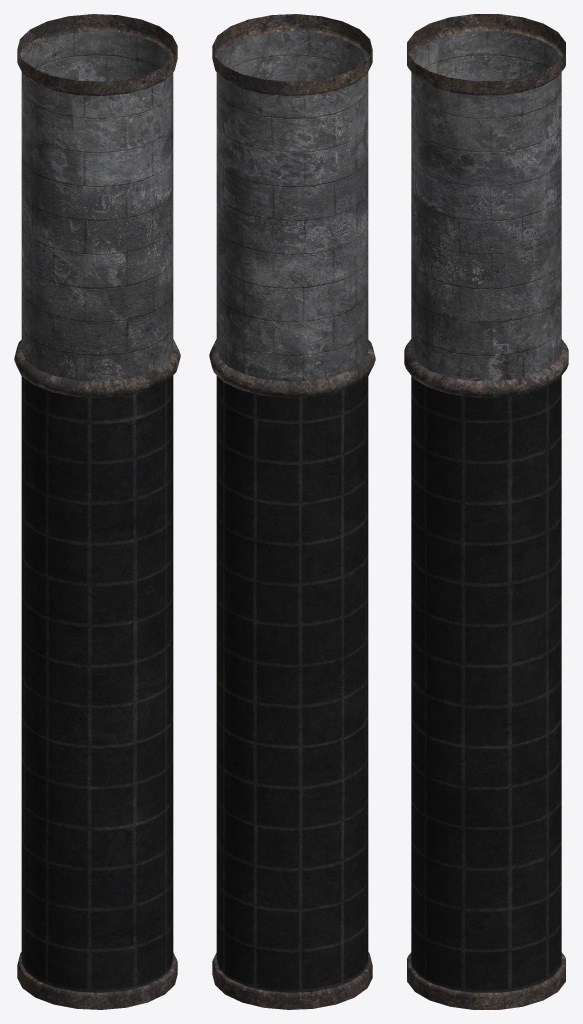
Rendered from BathroomColumn.FBX.
3 renders of one model, left to right at view 1: azimuth 30°, elevation 25°; view 2: azimuth 150°, elevation 25°; view 3: azimuth 270°, elevation 25°, orthographic.
Parts seen in each view (by area): view 1: BathroomColumn; view 2: BathroomColumn; view 3: BathroomColumn.
Boxes of the visible parts, x1,y1,x2,y2 form: BathroomColumn: [14, 14, 180, 1009]; BathroomColumn: [209, 14, 375, 1009]; BathroomColumn: [404, 14, 568, 1009].
Bounding box in the file's own units: 22.11 × 138 × 22.09.
